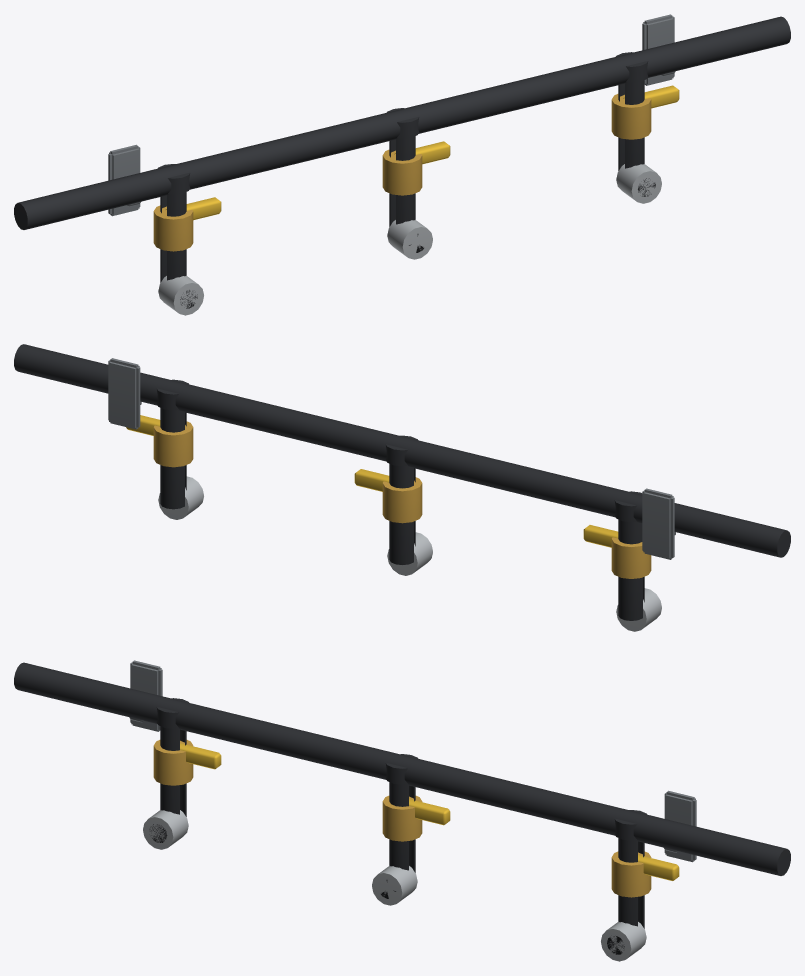
File: SM_GasManifold_20.glb
The picture shows the model from 3 angles, top to bottom: view 1: azimuth 30°, elevation 25°; view 2: azimuth 150°, elevation 25°; view 3: azimuth 330°, elevation 25°; orthographic projection.
Visible parts, largest first — view 1: SM_GasManifold_20; view 2: SM_GasManifold_20; view 3: SM_GasManifold_20.
Boxes of the visible parts, x1=… form: SM_GasManifold_20: x1=14, y1=14, x2=790, y2=315; SM_GasManifold_20: x1=14, y1=344, x2=790, y2=631; SM_GasManifold_20: x1=14, y1=660, x2=790, y2=961.
Bounding box in the file's own units: 2 × 0.391 × 0.13.
Materials: 1 (1 with a texture image).
